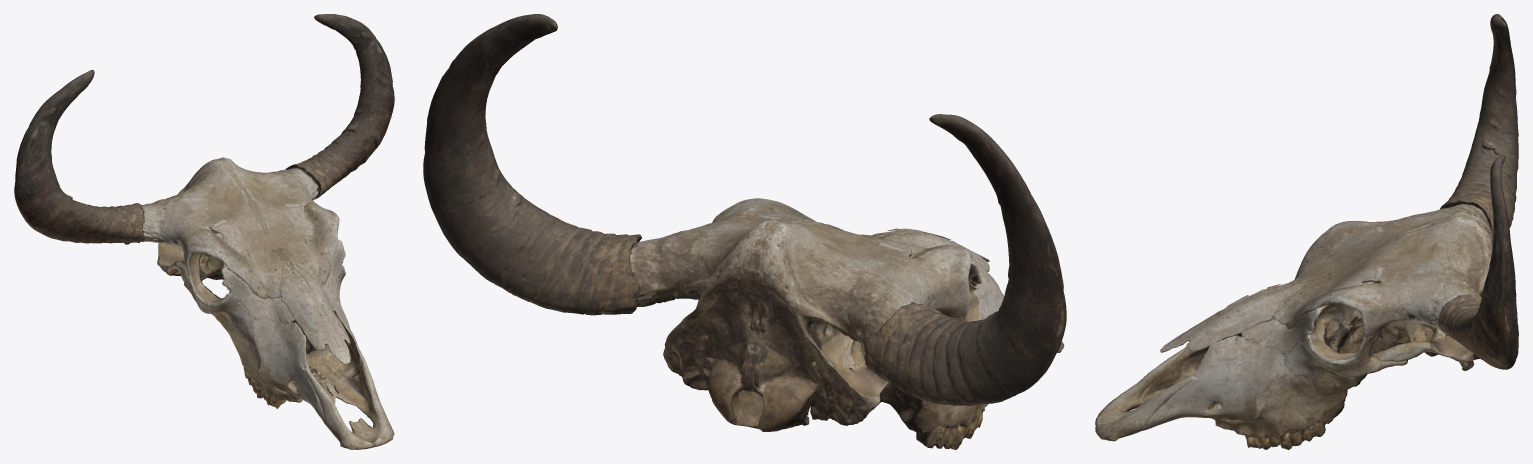
The model's file is mediterraneo.glb.
3 renders of one model, left to right at view 1: azimuth 30°, elevation 25°; view 2: azimuth 150°, elevation 25°; view 3: azimuth 270°, elevation 25°, orthographic. The views are drawn at different scales.
Visible parts, largest first — view 1: MDCNR1UGCA01_LOD0.001, MDCNR1UGCA01_LOD0; view 2: MDCNR1UGCA01_LOD0.001, MDCNR1UGCA01_LOD0; view 3: MDCNR1UGCA01_LOD0, MDCNR1UGCA01_LOD0.001.
Part boxes in pixels (<box>): MDCNR1UGCA01_LOD0.001: <box>14,69,373,449</box>; MDCNR1UGCA01_LOD0: <box>212,14,394,447</box>; MDCNR1UGCA01_LOD0.001: <box>737,114,1066,449</box>; MDCNR1UGCA01_LOD0: <box>423,14,955,428</box>; MDCNR1UGCA01_LOD0: <box>1095,154,1518,449</box>; MDCNR1UGCA01_LOD0.001: <box>1095,14,1518,425</box>.
Size of the model in its own units: 41.94 by 29.95 by 33.72.
2 materials, 2 textured.
